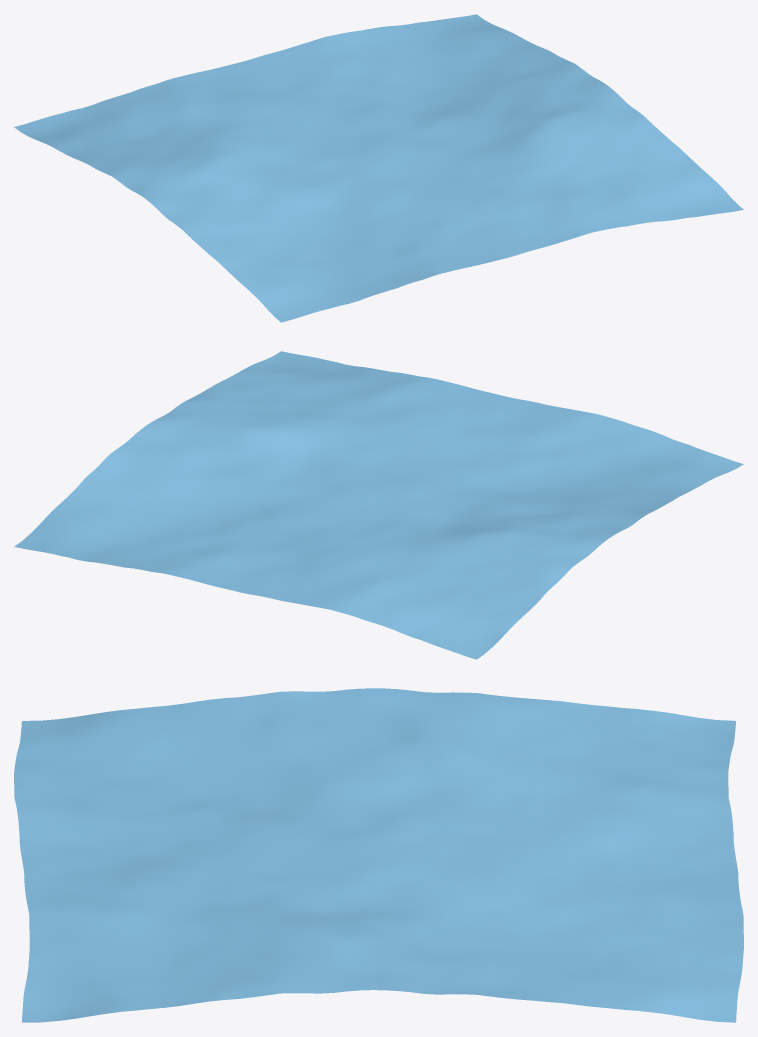
File: sea_surface.obj
The picture shows the model from 3 angles, top to bottom: view 1: azimuth 30°, elevation 25°; view 2: azimuth 150°, elevation 25°; view 3: azimuth 270°, elevation 25°; orthographic projection. The views are drawn at different scales.
Parts seen in each view (by area): view 1: Cube; view 2: Cube; view 3: Cube.
Part boxes in pixels (x1,y1,x2,y2): Cube: (14, 14, 743, 322); Cube: (14, 351, 743, 659); Cube: (14, 688, 743, 1022).
Size of the model in its own units: 50.31 by 2.53 by 51.11.
1 material, 1 textured.
